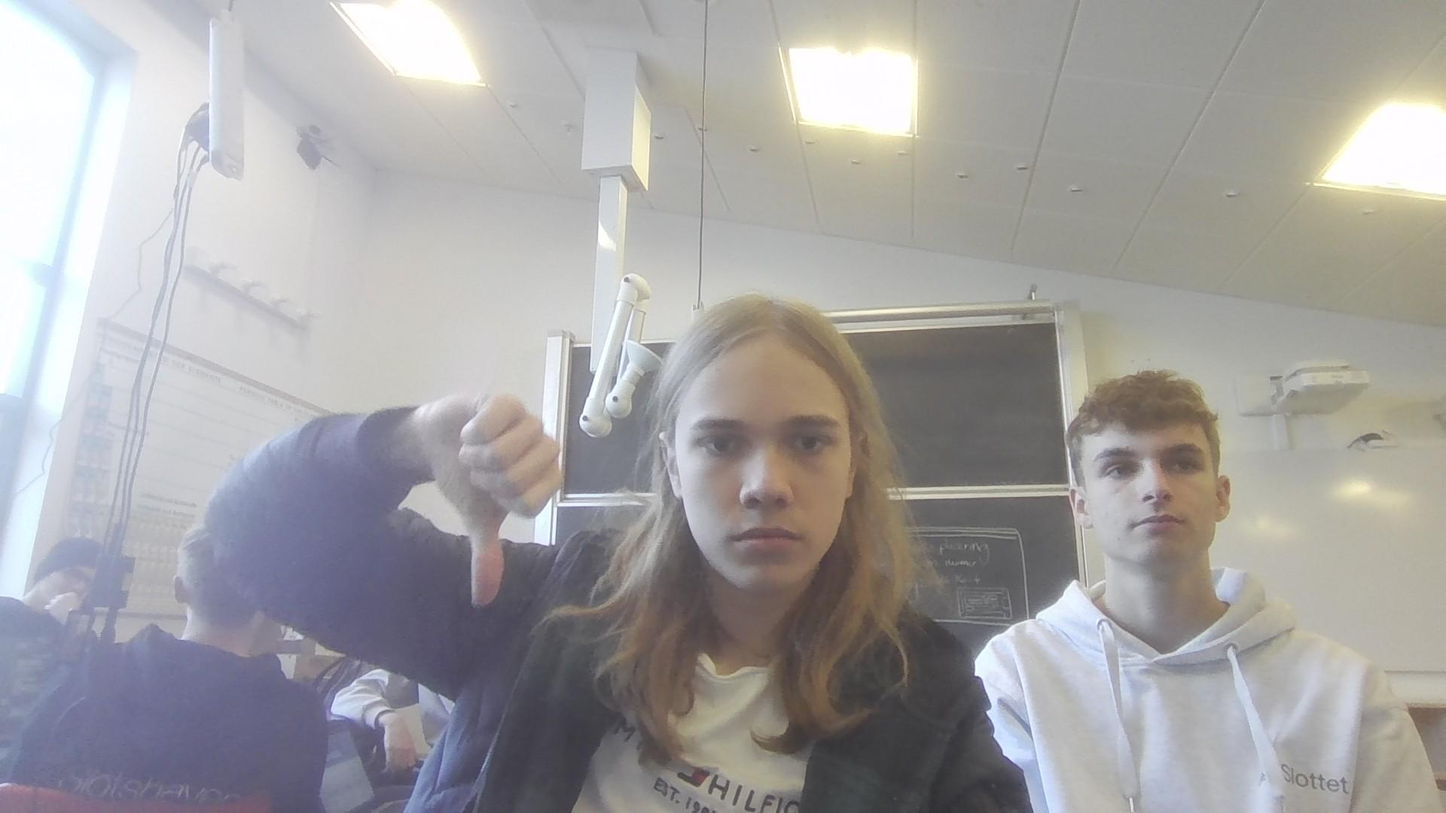thumbs down: (410, 386, 572, 606)
